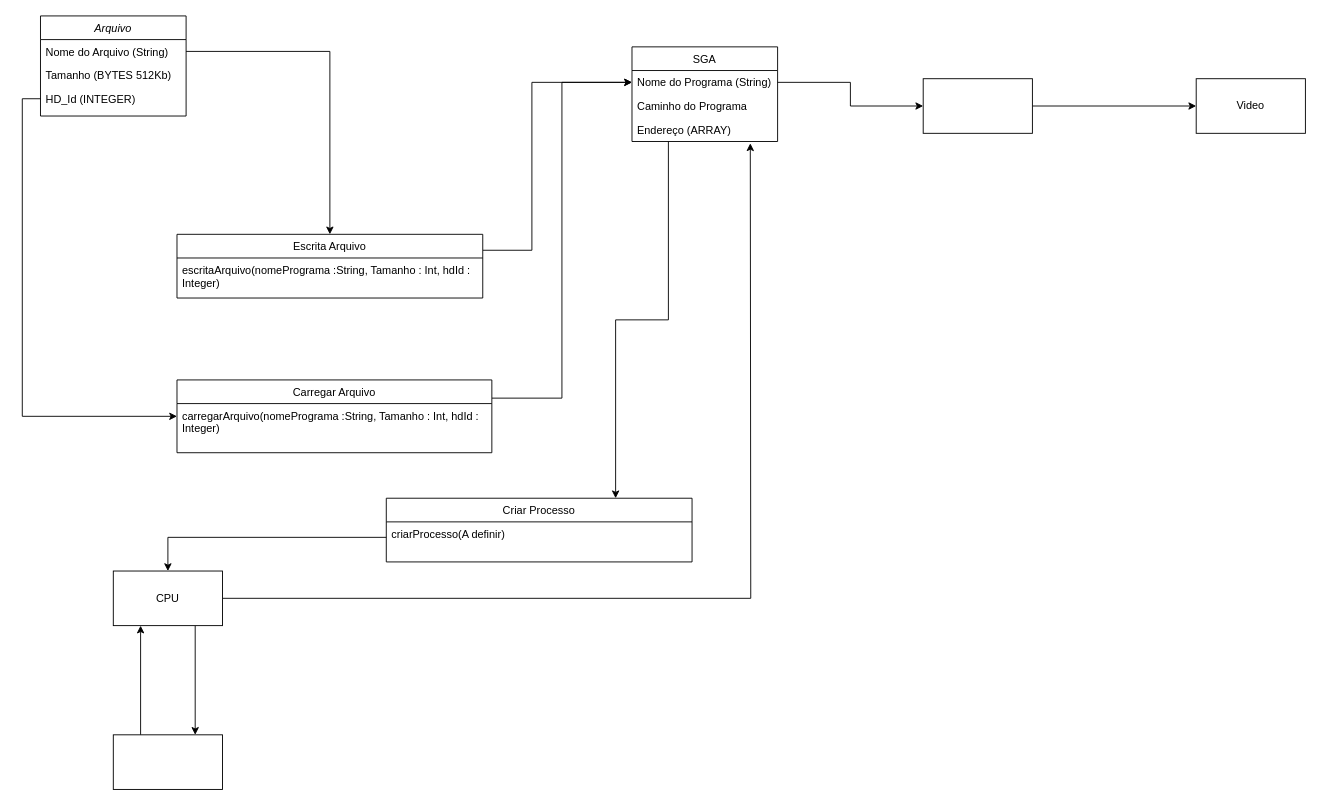
This 1321x805 diagram has some shape labels left out. Each missing label, with the centre of its shape:
Coisas a acontecer: (977,105)
HD: (167,761)
